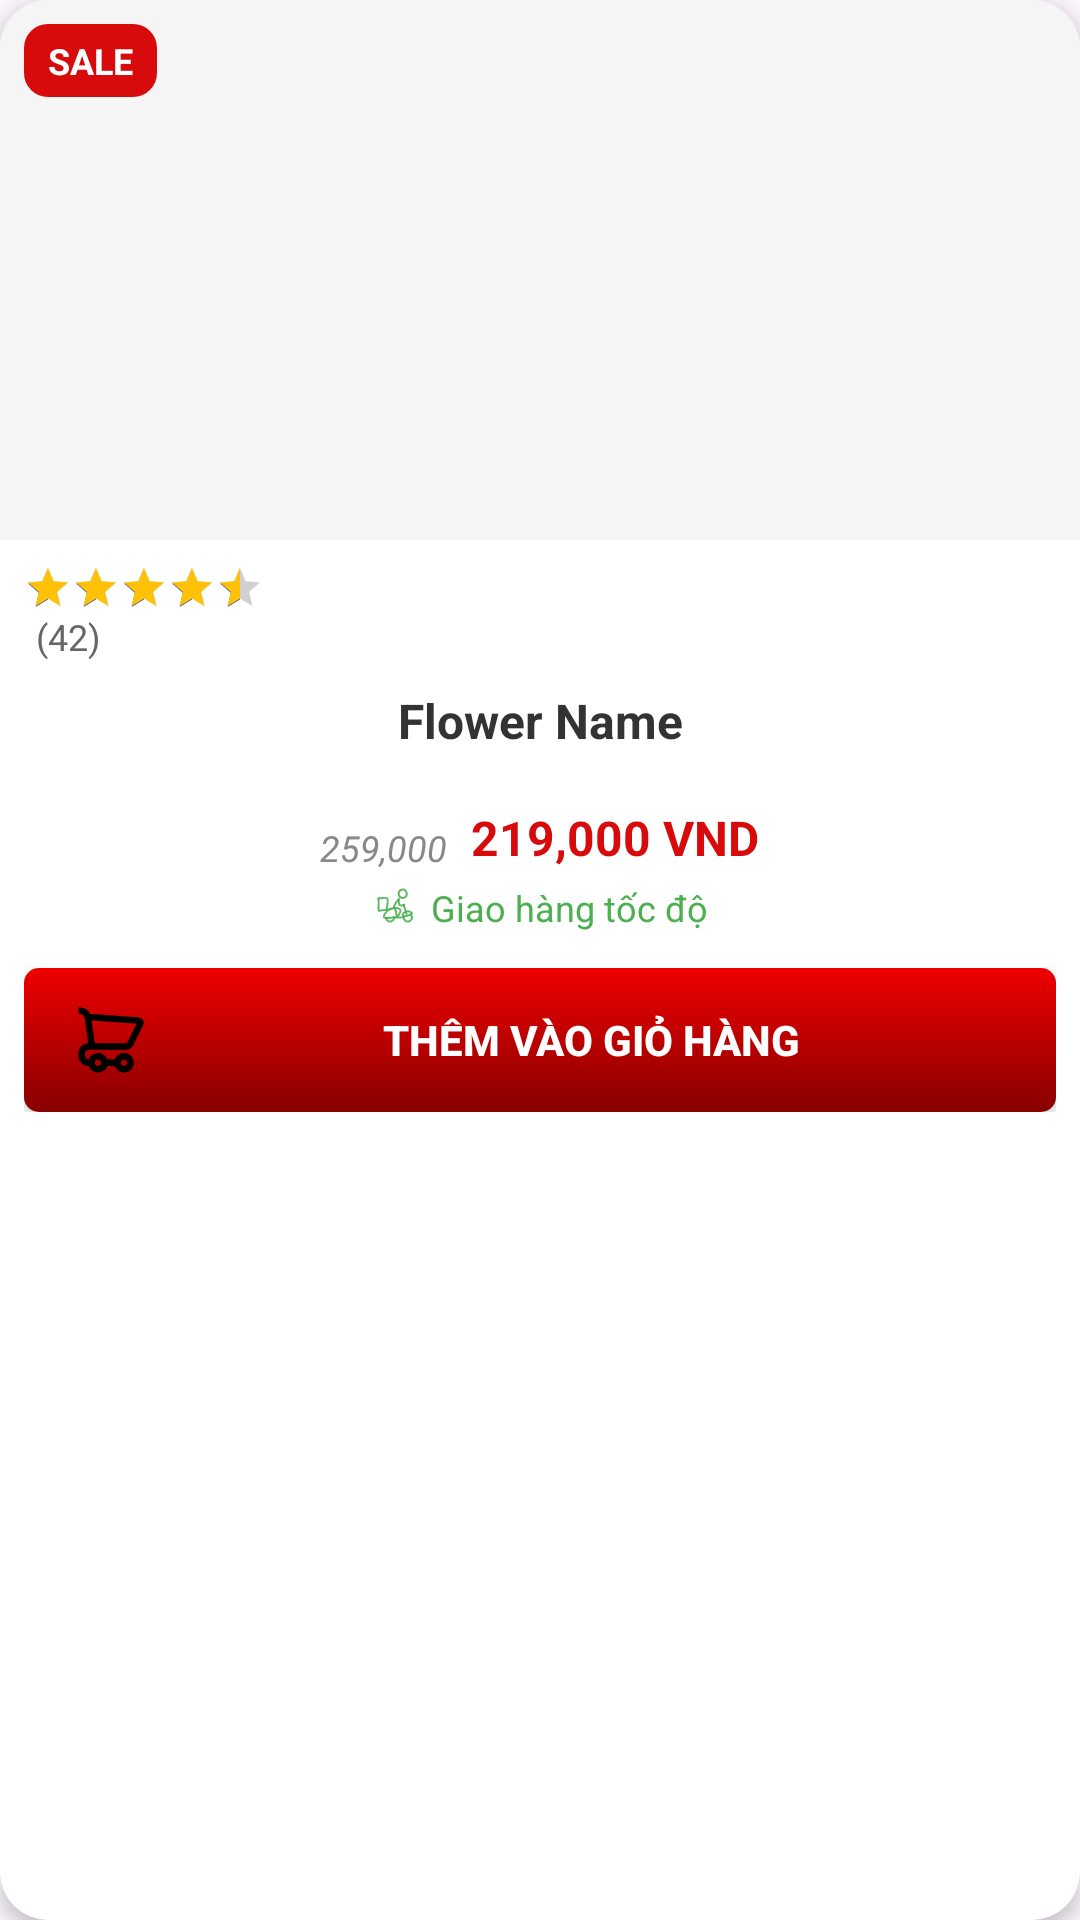

Icons on this 1080 × 1920 Android screen, each with the point to tap as (x=x, y=y):
delivery scooter: (x=395, y=905)
